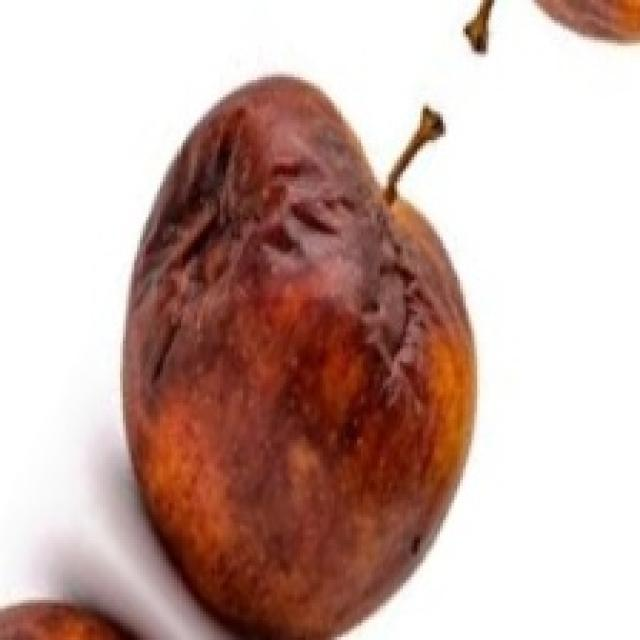rotten_apple: (130, 80, 470, 633)
